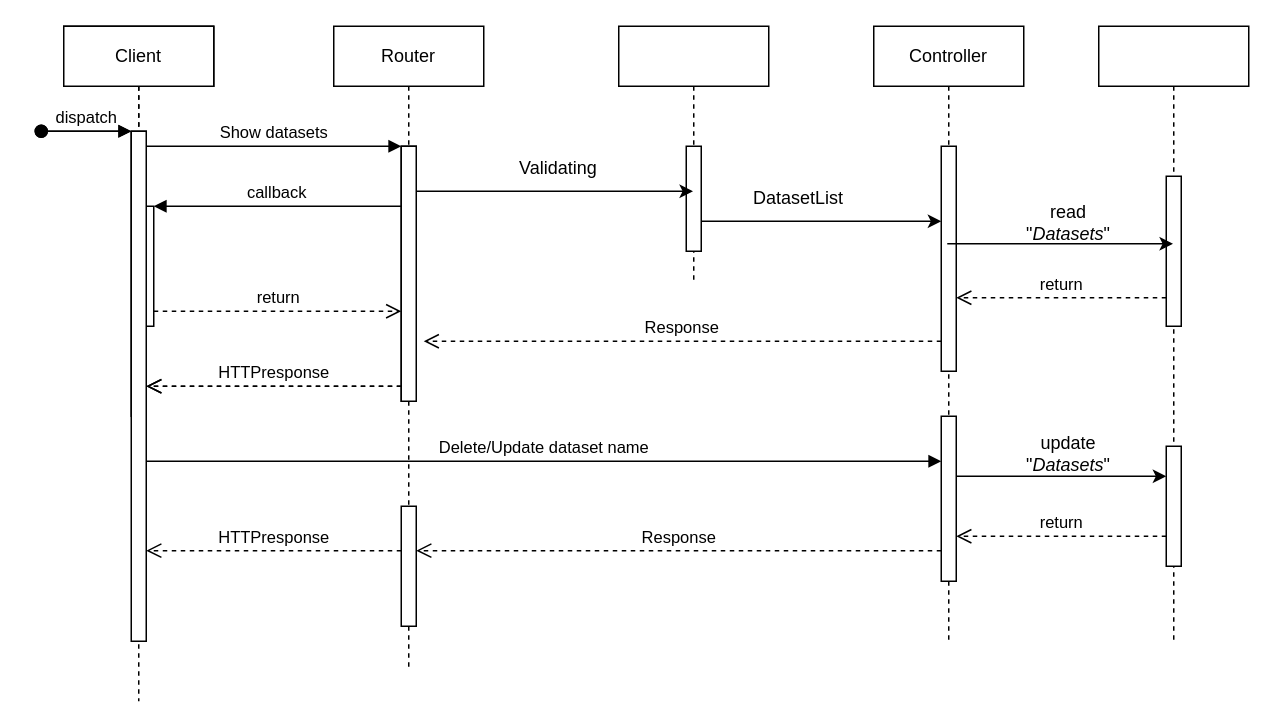
Some shapes in this 1275 by 728 pixel diagram are drawn without their labels. Each missing label, with the box of its shape:
DB: (1097, 25, 1249, 641)
Middleware: (617, 25, 769, 281)
